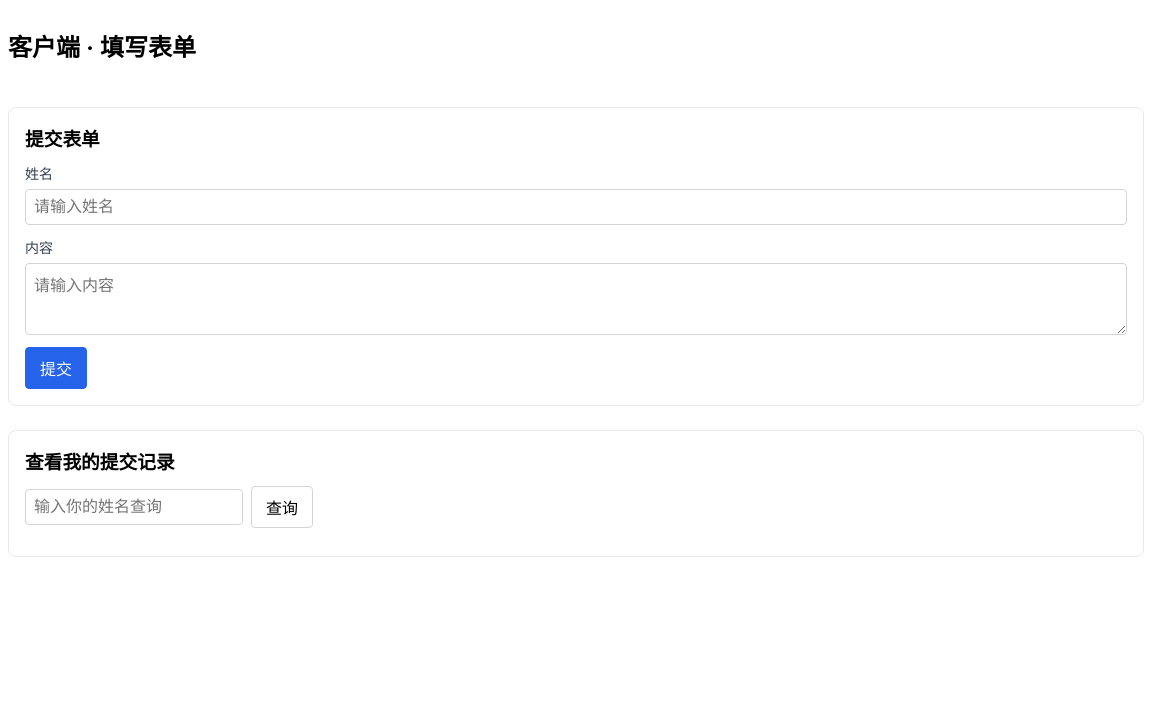
Scenario: ClientView › 姓名和内容都为空时提交，显示错误提示且不新增记录
This screenshot has width=1152, height=720.
Click the button with class "btn--primary" at (56,368), box [25,347,87,389]
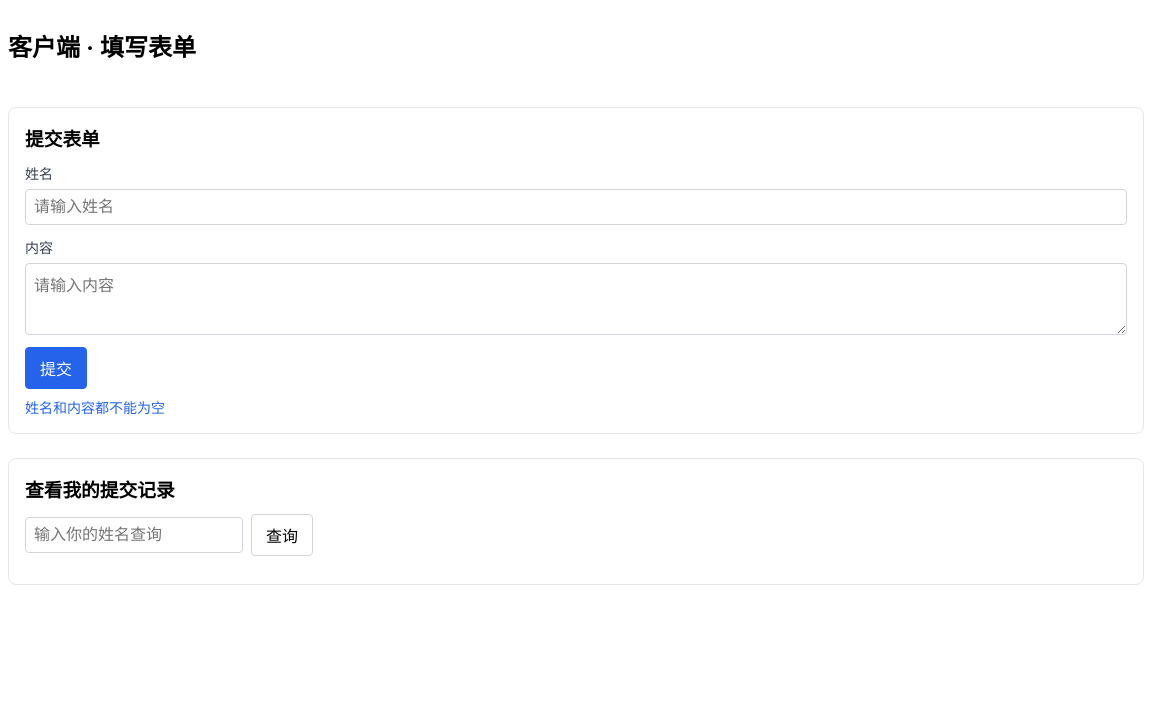
Result: the text with class "msg" reads "姓名和内容都不能为空" at [25,401,165,416]
